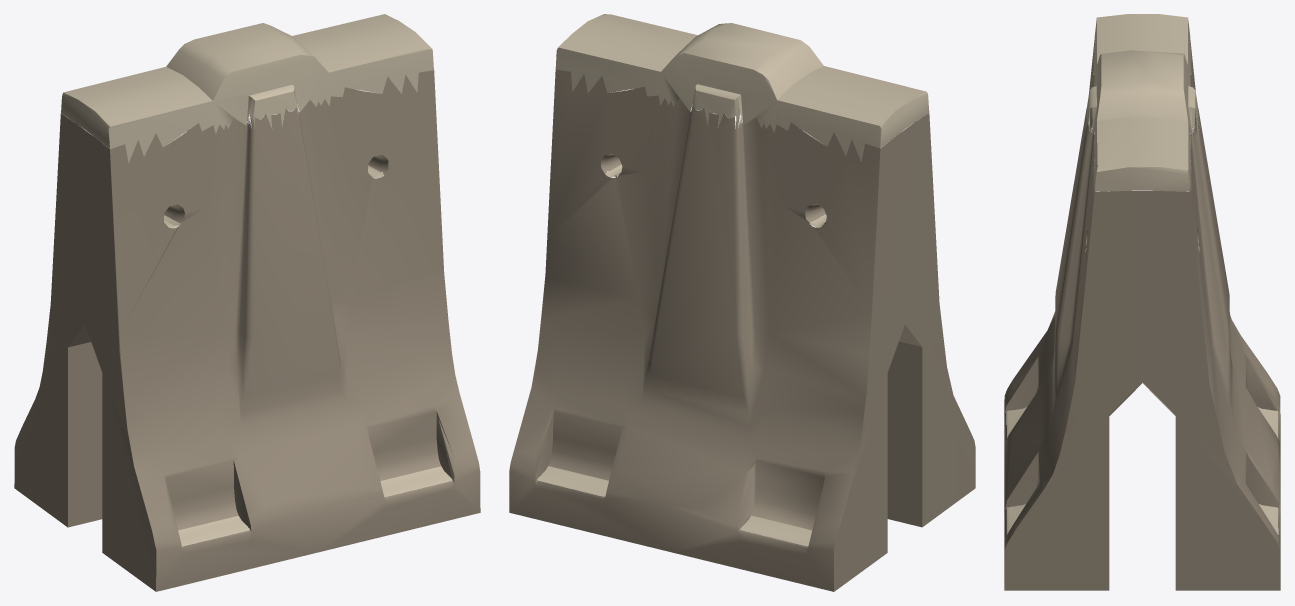
File: stone-wall-ew.glb
3 views of the same model, side by side, from view 1: azimuth 30°, elevation 25°; view 2: azimuth 150°, elevation 25°; view 3: azimuth 270°, elevation 25° (orthographic). The views are drawn at different scales.
Parts seen in each view (by area): view 1: body; view 2: body; view 3: body.
Part boxes in pixels (x1=…): body: x1=14, y1=14, x2=480, y2=591; body: x1=509, y1=14, x2=975, y2=591; body: x1=1004, y1=14, x2=1280, y2=590.
Size of the model in its own units: 0.9921 by 1.32 by 0.7437.
